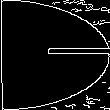L_W: (5, 40, 105, 70)
